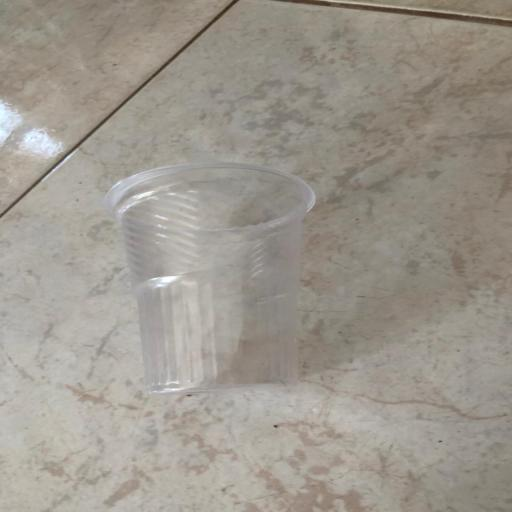waste: (87, 157, 337, 403)
